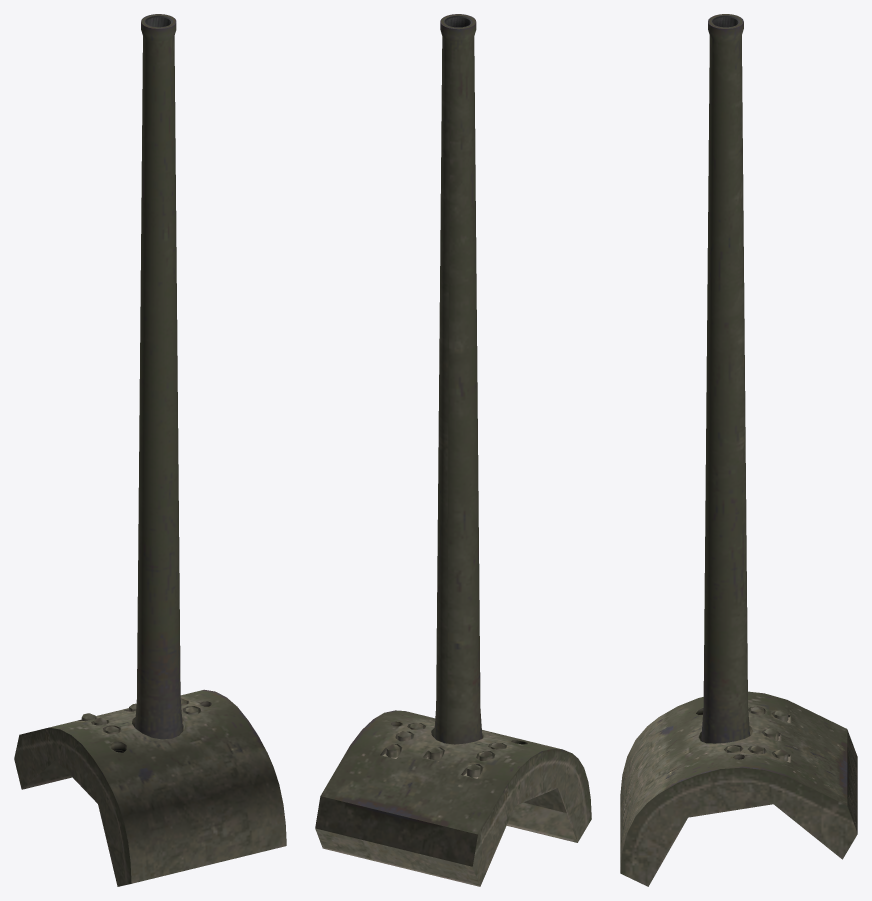
Rendered from Gun_01.glb.
3 renders of one model, left to right at view 1: azimuth 30°, elevation 25°; view 2: azimuth 150°, elevation 25°; view 3: azimuth 270°, elevation 25°, orthographic.
Parts seen in each view (by area): view 1: set_0_group_0; view 2: set_0_group_0; view 3: set_0_group_0.
Boxes of the visible parts, x1,y1,x2,y2 form: set_0_group_0: (14, 14, 286, 886); set_0_group_0: (315, 14, 591, 886); set_0_group_0: (620, 14, 857, 886).
Size of the model in its own units: 0.7708 by 3.88 by 1.01.
1 material, 1 textured.
